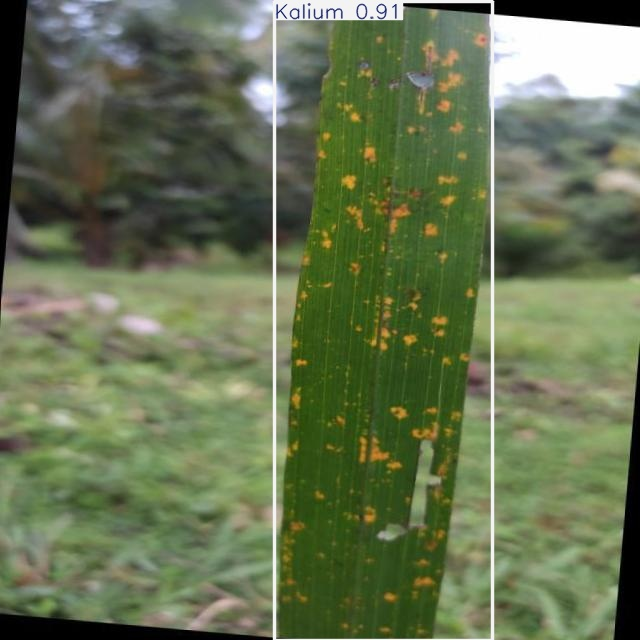Kalium: (274, 2, 493, 640)
